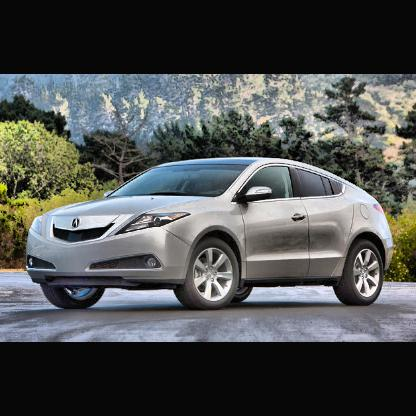Acura ZDX Hatchback 2012: (26, 158, 394, 312)
